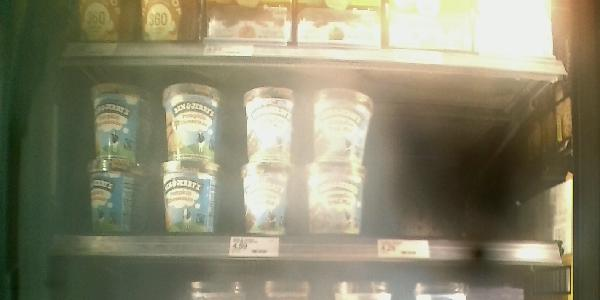icecream: (152, 157, 227, 237), (150, 84, 225, 160), (308, 85, 380, 163), (304, 160, 377, 236), (80, 159, 148, 235), (235, 84, 303, 157), (230, 160, 297, 233), (85, 82, 147, 156)
